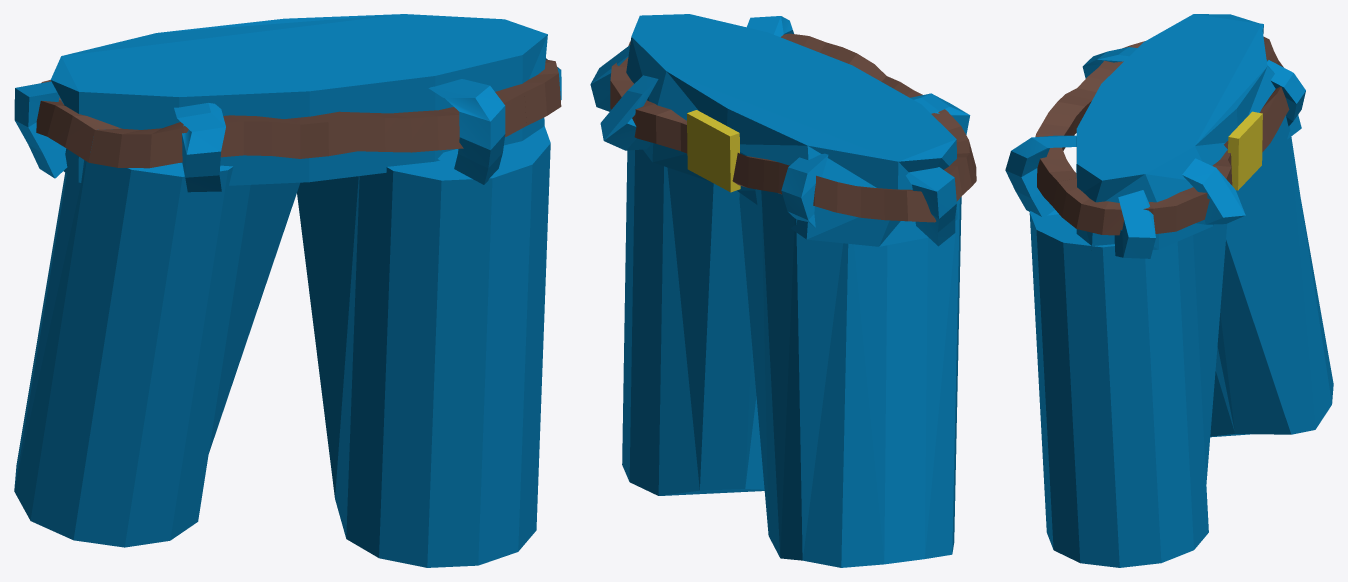
Rendered from shorts.gltf.
The picture shows the model from 3 angles, left to right: view 1: azimuth 30°, elevation 25°; view 2: azimuth 150°, elevation 25°; view 3: azimuth 270°, elevation 25°; orthographic projection. The views are drawn at different scales.
Visible parts, largest first — view 1: node_MeshObject-1492845568-PolyPaper8; view 2: node_MeshObject-1492845568-PolyPaper8; view 3: node_MeshObject-1492845568-PolyPaper8.
Part boxes in pixels (bbox=[...]): node_MeshObject-1492845568-PolyPaper8: bbox=[14, 14, 561, 567]; node_MeshObject-1492845568-PolyPaper8: bbox=[590, 14, 976, 567]; node_MeshObject-1492845568-PolyPaper8: bbox=[1005, 14, 1333, 567].
Bounding box in the file's own units: 0.7697 × 0.76 × 0.5722.
